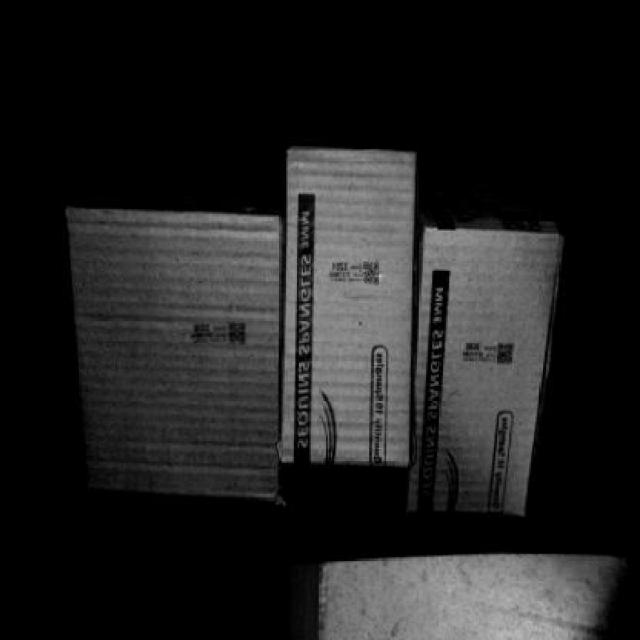cardboxes: (66, 210, 277, 515), (407, 228, 562, 515), (278, 146, 413, 471)
